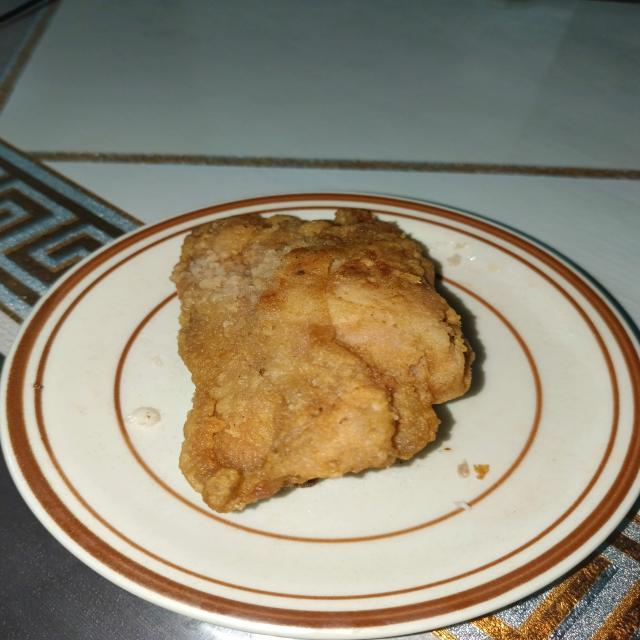Chicken -Fried Chicken-: (135, 201, 515, 532)
